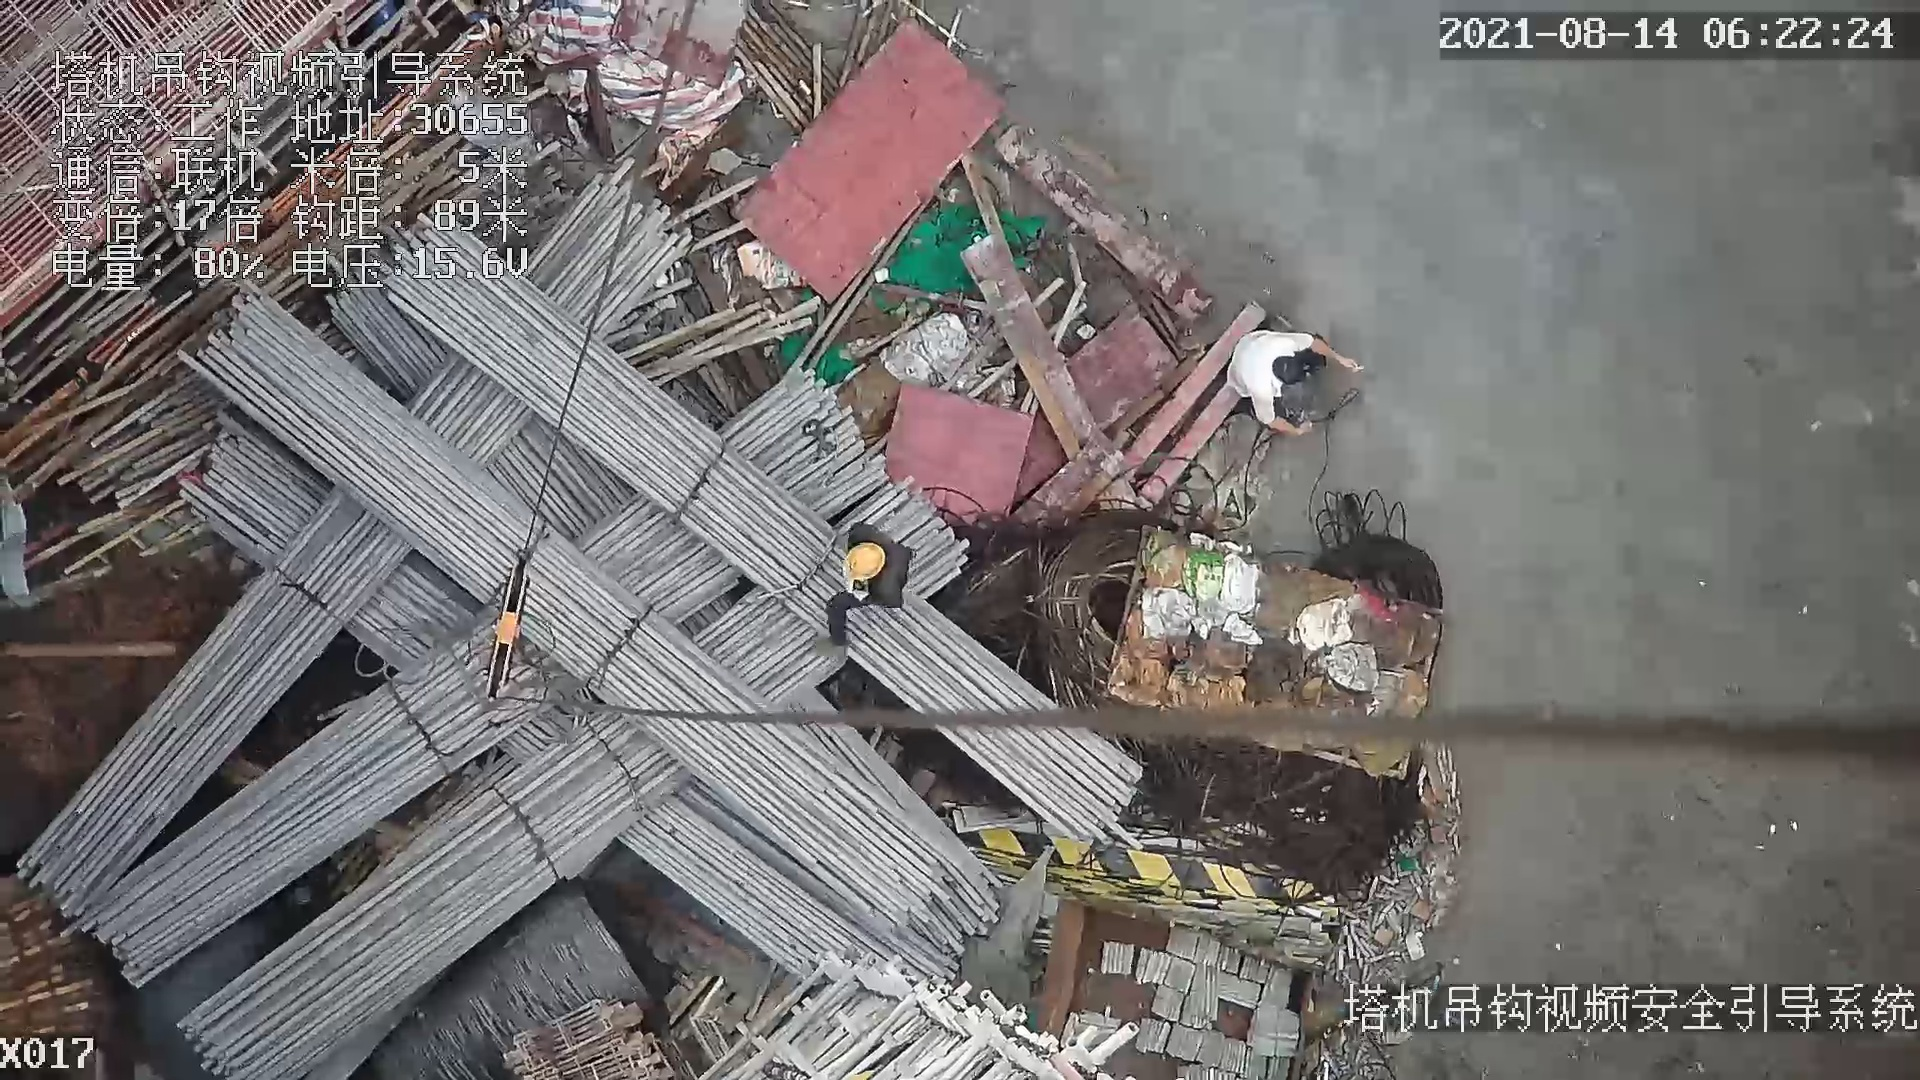helmet: (839, 540, 894, 590)
hook: (491, 556, 529, 708)
person: (1223, 318, 1372, 440), (804, 508, 915, 660)
